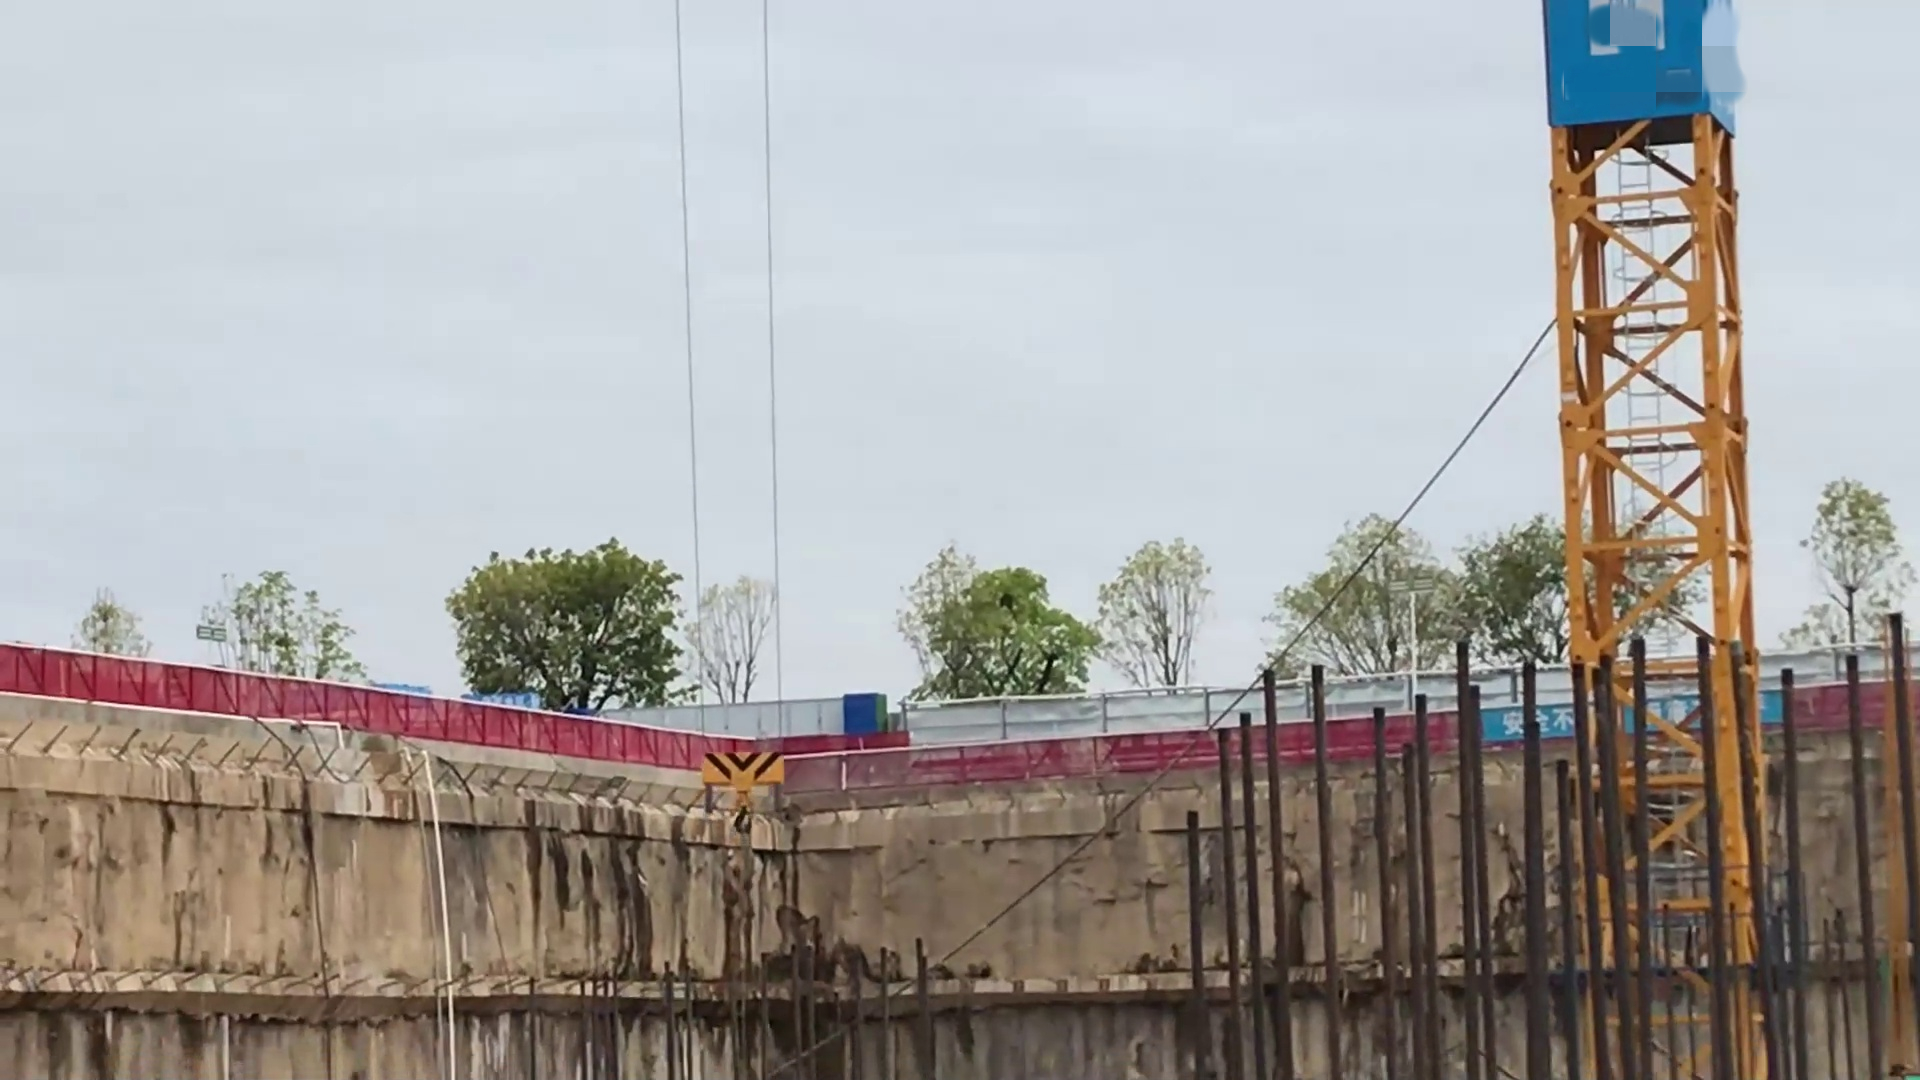hook: (688, 738, 800, 848)
slogan: (1484, 692, 1780, 741)
